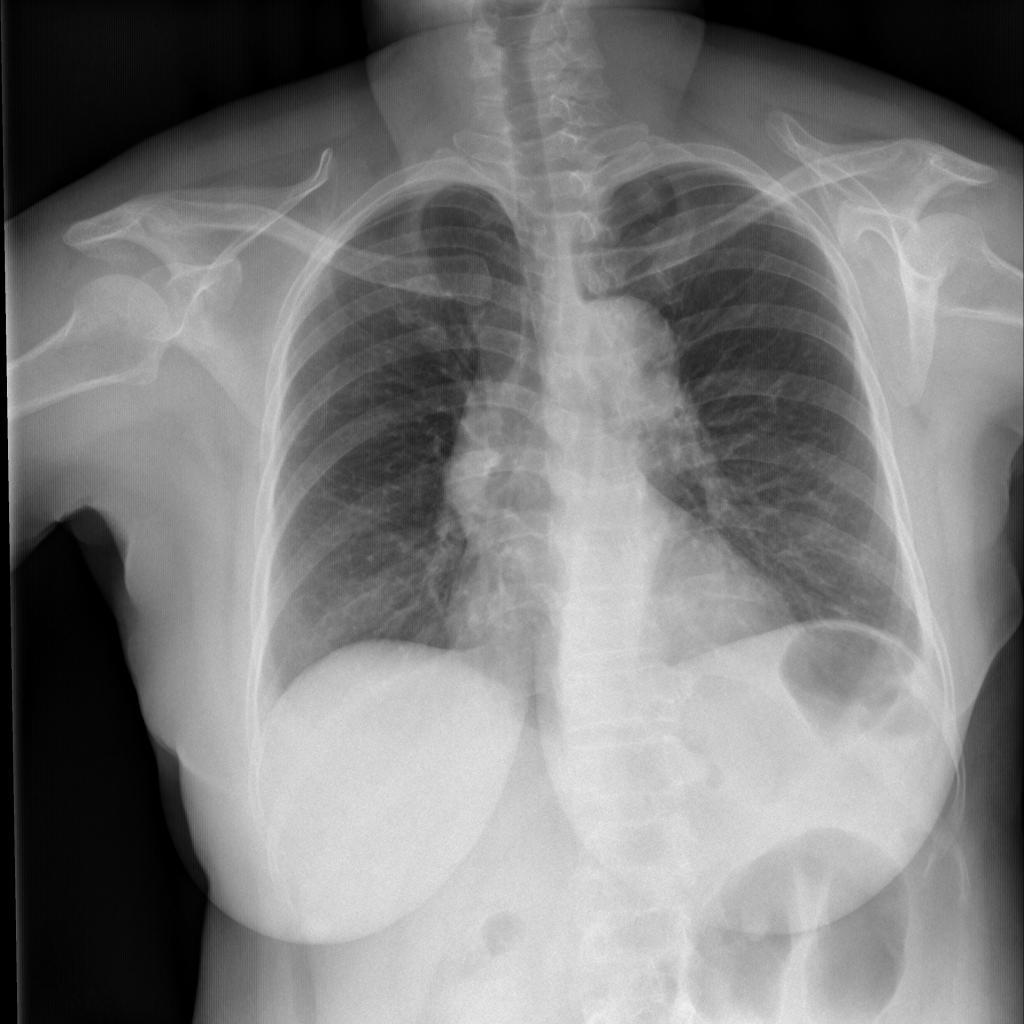Nodule: (420, 373, 555, 566), (619, 357, 729, 531)
